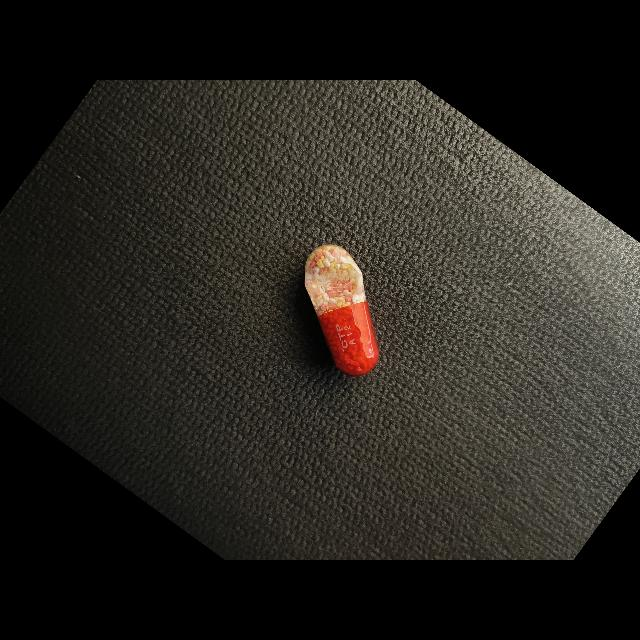Defective Capsule: (305, 244, 379, 376)
